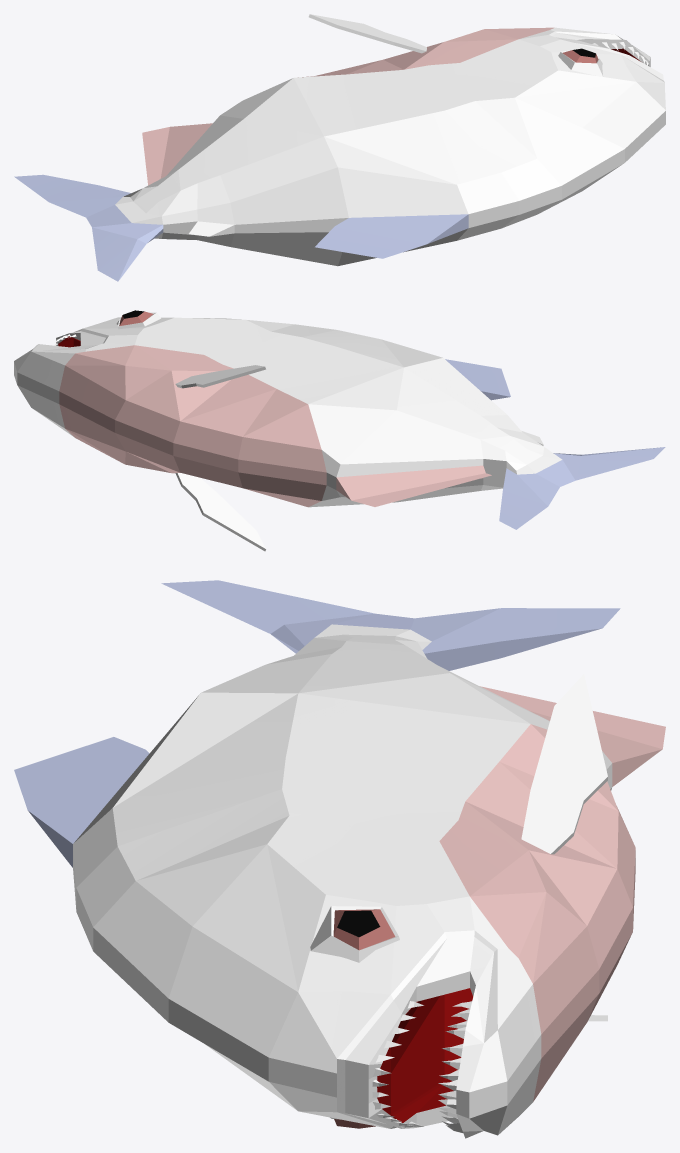
File: PiranhaDrip.obj
3 views of the same model, one above another, from view 1: azimuth 30°, elevation 25°; view 2: azimuth 150°, elevation 25°; view 3: azimuth 270°, elevation 25° (orthographic). The views are drawn at different scales.
Parts seen in each view (by area): view 1: PiranhaDrip_0; view 2: PiranhaDrip_0; view 3: PiranhaDrip_0.
Boxes of the visible parts, box(x1,y1,x2,y2) form: PiranhaDrip_0: box(14, 14, 665, 281); PiranhaDrip_0: box(14, 310, 665, 551); PiranhaDrip_0: box(14, 580, 665, 1138).
Size of the model in its own units: 0.5986 by 0.1846 by 0.314.
1 material, 1 textured.
